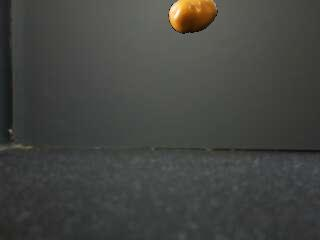Potato: (168, 0, 218, 35)
